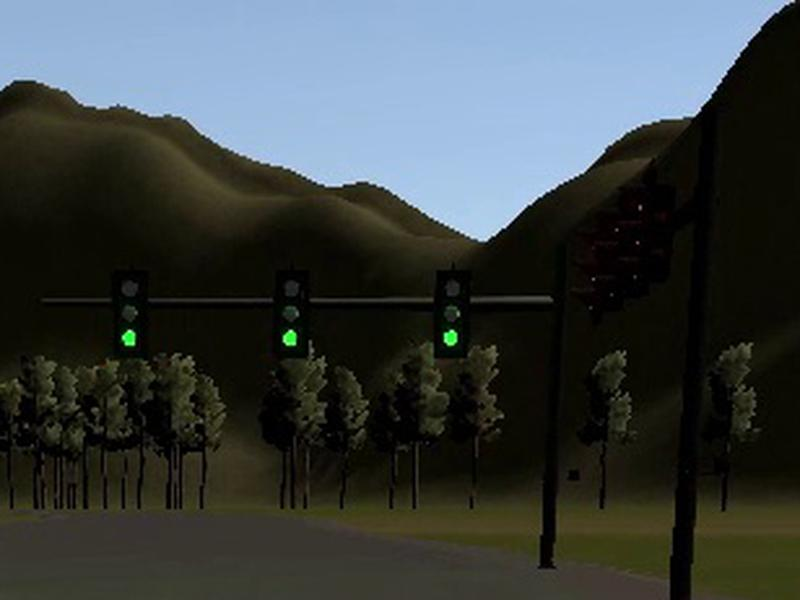Green: (273, 270, 309, 358), (435, 269, 468, 359), (112, 267, 145, 357)
